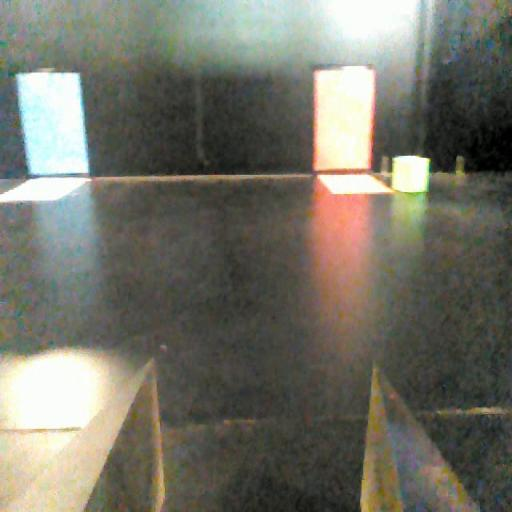cube: (391, 152, 434, 203)
